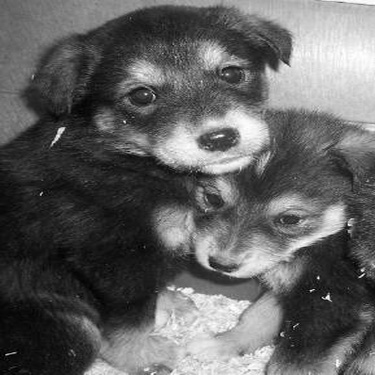dog: (3, 3, 296, 372), (177, 92, 372, 373)
